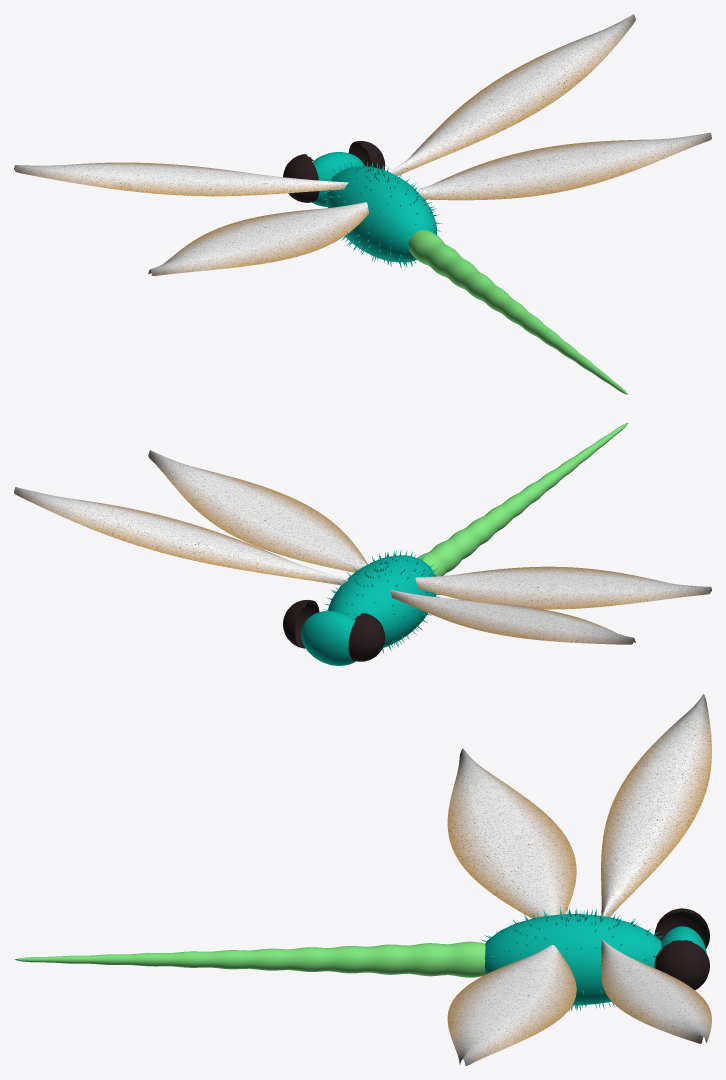
The picture shows the model from 3 angles, top to bottom: view 1: azimuth 30°, elevation 25°; view 2: azimuth 150°, elevation 25°; view 3: azimuth 270°, elevation 25°; orthographic projection. The views are drawn at different scales.
Parts seen in each view (by area): view 1: hindwing, forewing, hindwing.001, forewing.001, thorax, abdomen, head, compound_eye.001, compound_eye; view 2: hindwing, hindwing.001, forewing, forewing.001, thorax, abdomen, head, compound_eye.001, compound_eye; view 3: hindwing.001, forewing.001, abdomen, hindwing, thorax, forewing, compound_eye, compound_eye.001.
Boxes of the visible parts, left/top/right/bottom form: hindwing: left=416, top=132, right=711, bottom=200; forewing: left=390, top=14, right=635, bottom=176; hindwing.001: left=148, top=202, right=369, bottom=275; forewing.001: left=14, top=162, right=348, bottom=196; thorax: left=321, top=161, right=442, bottom=267; abdomen: left=408, top=229, right=627, bottom=394; head: left=312, top=152, right=364, bottom=206; compound_eye.001: left=283, top=154, right=319, bottom=202; compound_eye: left=348, top=141, right=385, bottom=170; hindwing: left=148, top=450, right=367, bottom=572; hindwing.001: left=415, top=566, right=711, bottom=609; forewing: left=14, top=487, right=347, bottom=585; forewing.001: left=389, top=590, right=635, bottom=644; thorax: left=323, top=550, right=440, bottom=656; abdomen: left=417, top=423, right=627, bottom=576; head: left=301, top=611, right=355, bottom=665; compound_eye.001: left=348, top=613, right=385, bottom=661; compound_eye: left=283, top=599, right=319, bottom=648; hindwing.001: left=447, top=748, right=576, bottom=918; forewing.001: left=601, top=694, right=711, bottom=917; abdomen: left=14, top=941, right=485, bottom=977; hindwing: left=447, top=945, right=576, bottom=1065; thorax: left=481, top=907, right=662, bottom=1011; forewing: left=601, top=939, right=711, bottom=1043; compound_eye: left=654, top=940, right=709, bottom=989; compound_eye.001: left=654, top=908, right=709, bottom=948.
Bounding box in the file's own units: 10.24 × 1.97 × 8.78.
7 materials, 4 textured.
